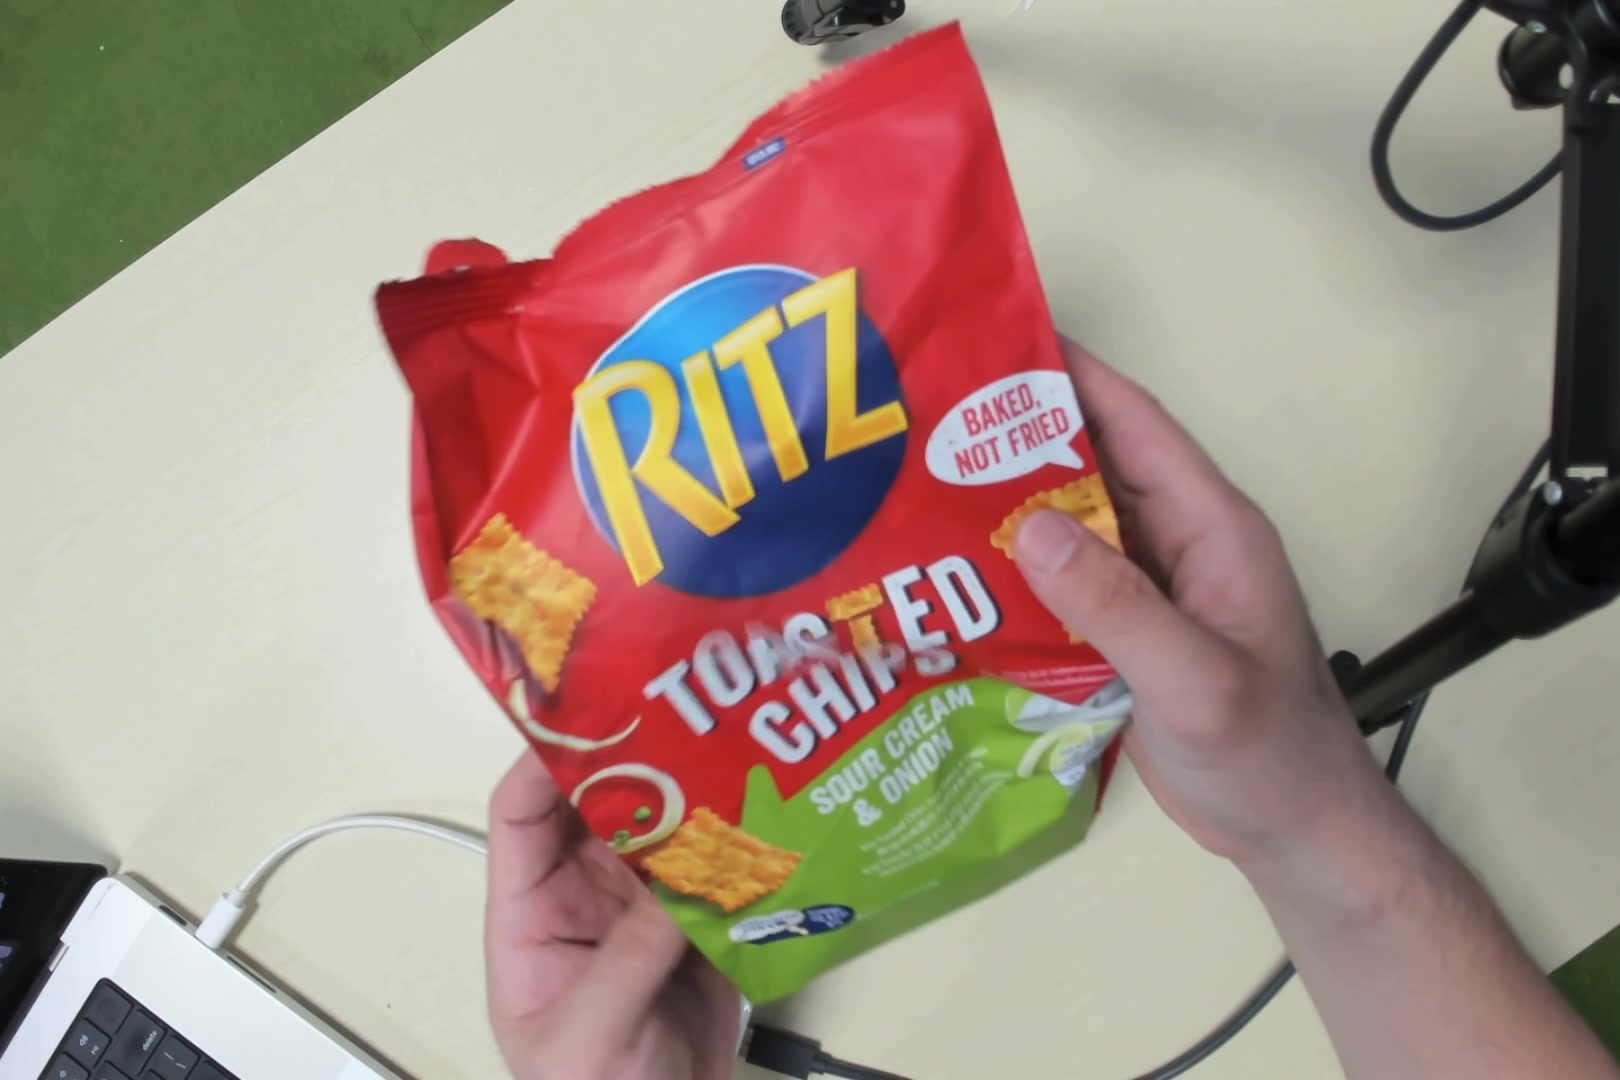BiscuitsCrackersCookies_200-299g_NonHalal_NonHealthy: (483, 162, 1119, 940)
